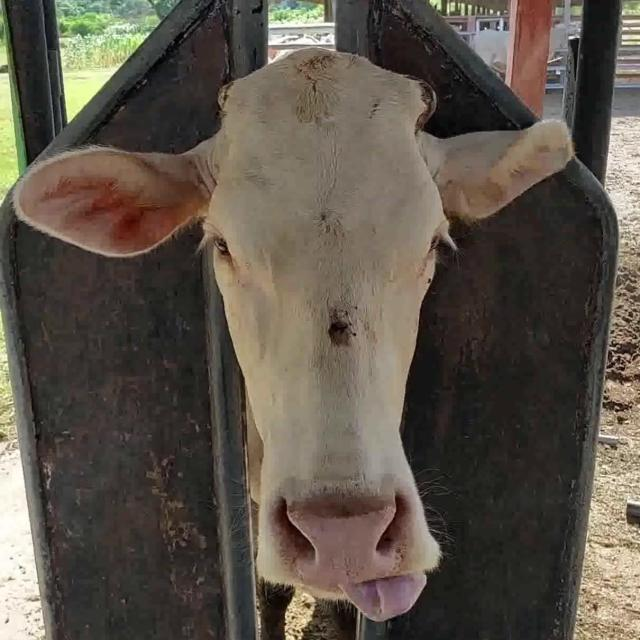cowFace: (200, 46, 443, 588)
